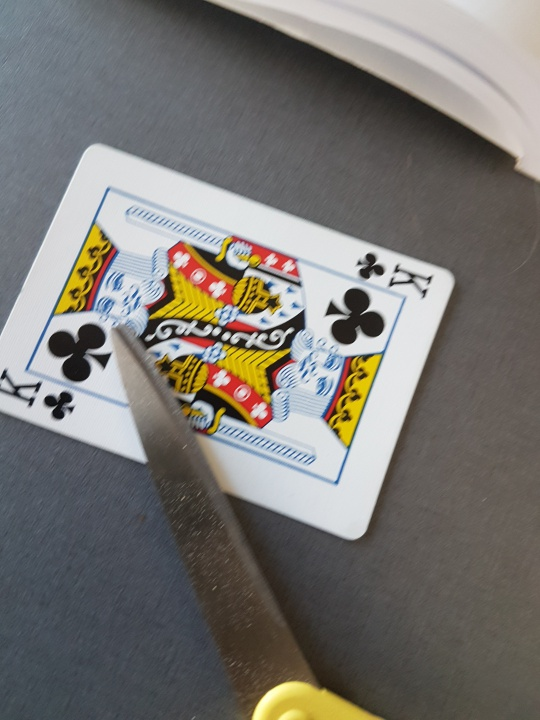king: (1, 125, 454, 581)
